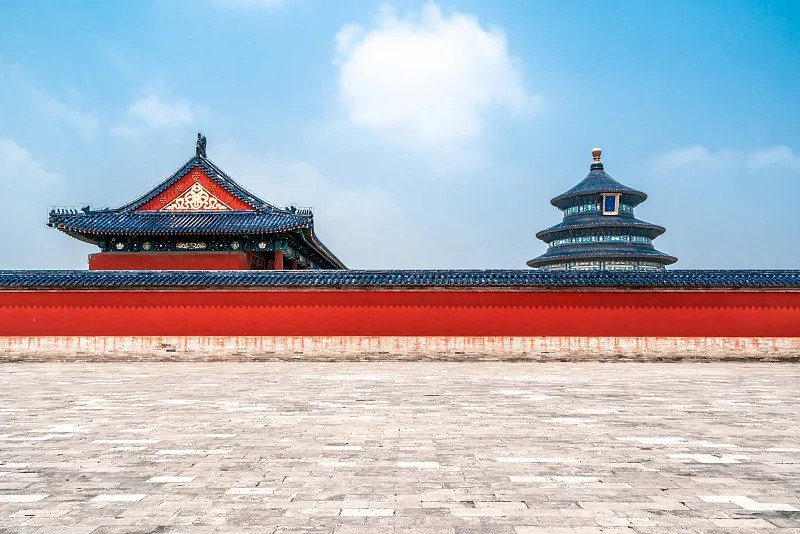Heaven: (526, 148, 679, 272)
